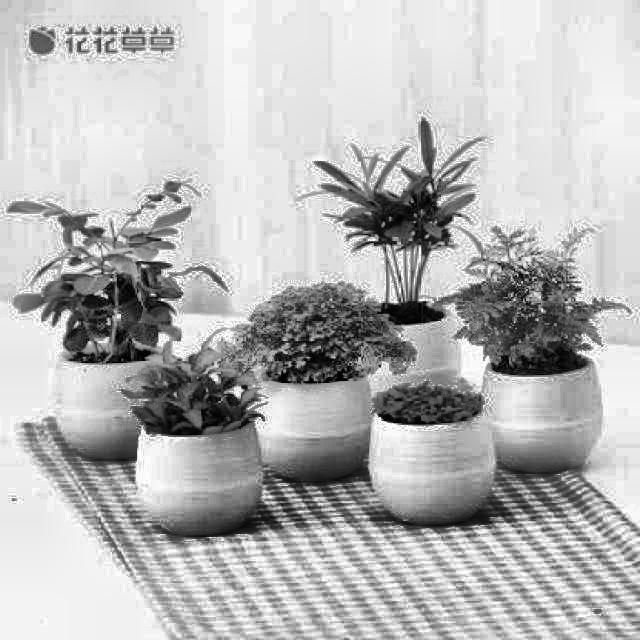plants: (27, 204, 164, 450), (466, 254, 616, 468), (323, 153, 459, 382), (246, 294, 372, 494), (138, 353, 256, 541), (376, 386, 492, 524)
